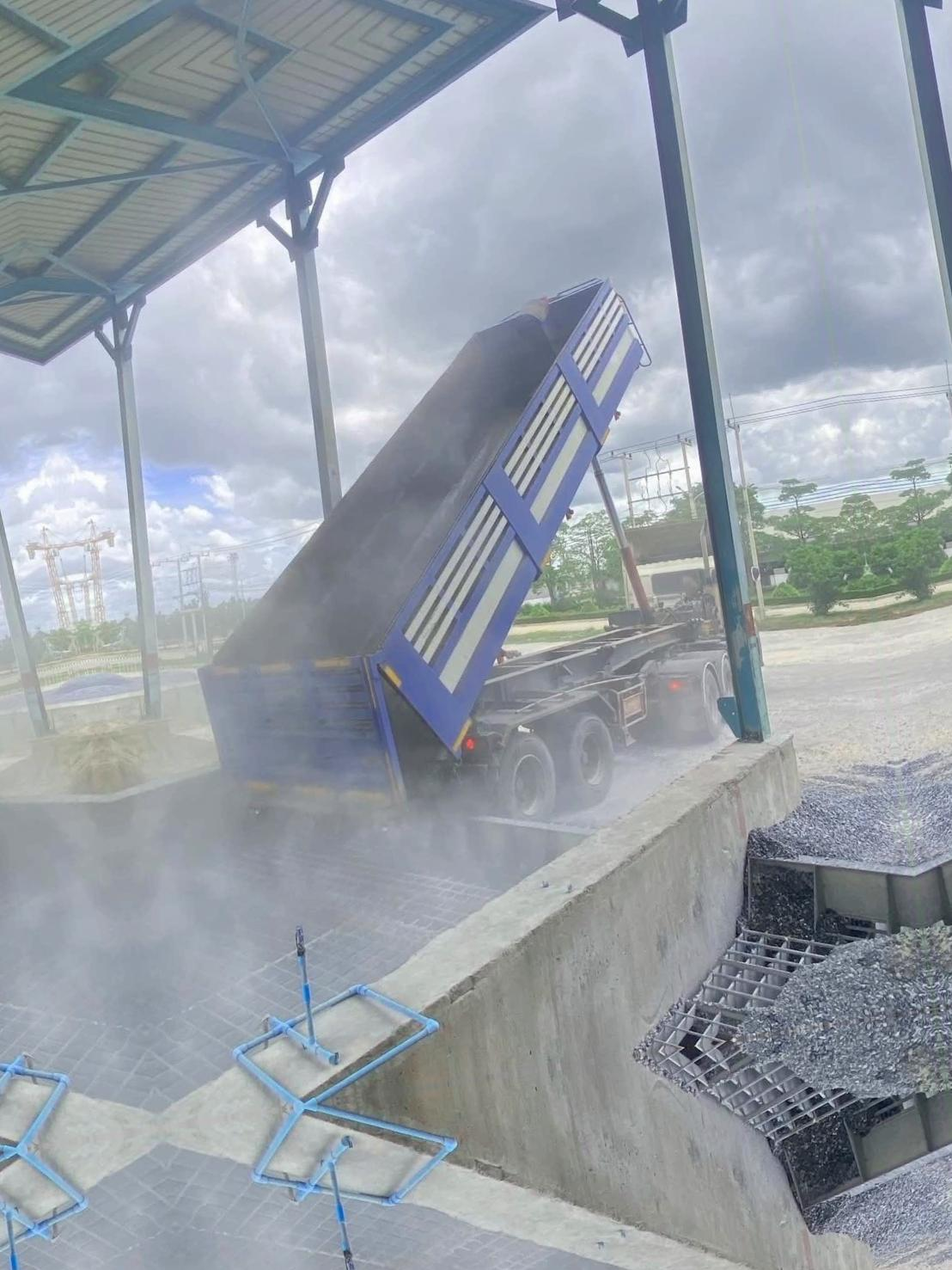gravel: (738, 930, 934, 1038), (748, 762, 912, 865), (743, 867, 814, 938)
